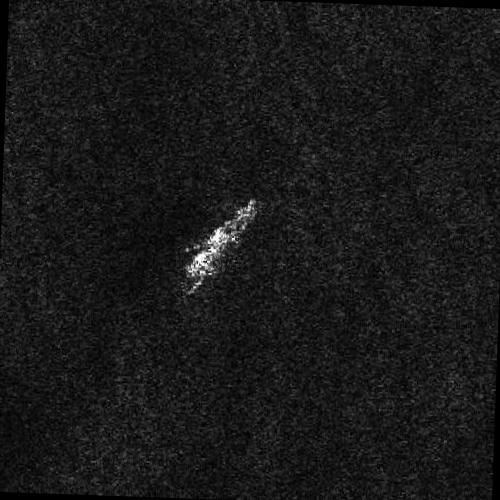ship: (186, 195, 258, 280)
